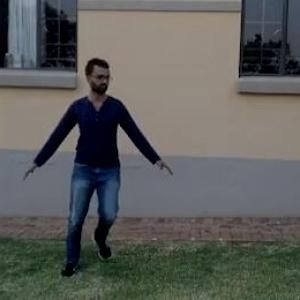land: (21, 61, 162, 247)
